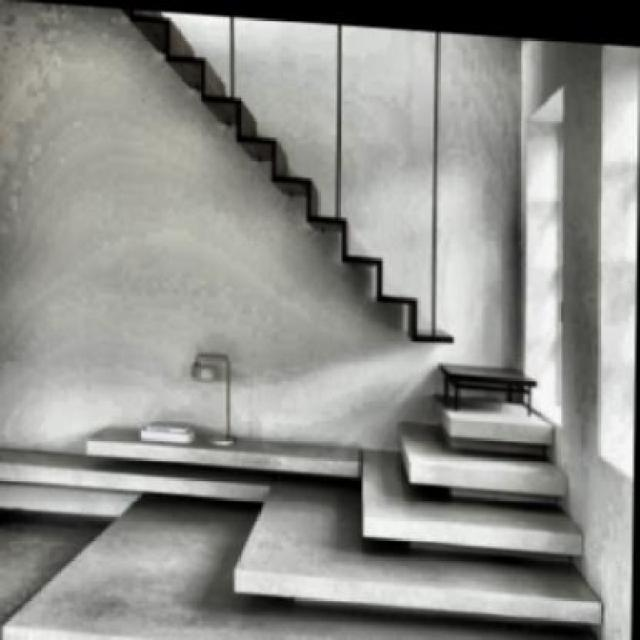stair: (318, 352, 610, 612)
